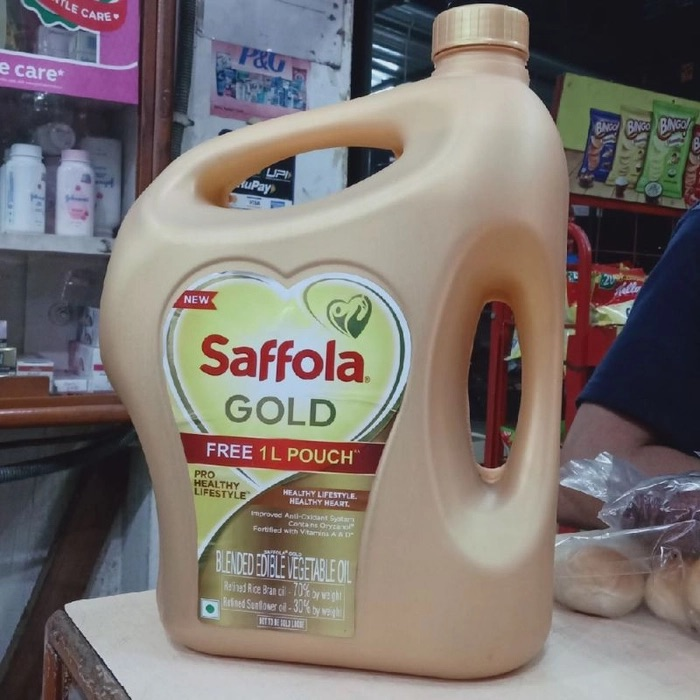saffola: (198, 332, 364, 386)
